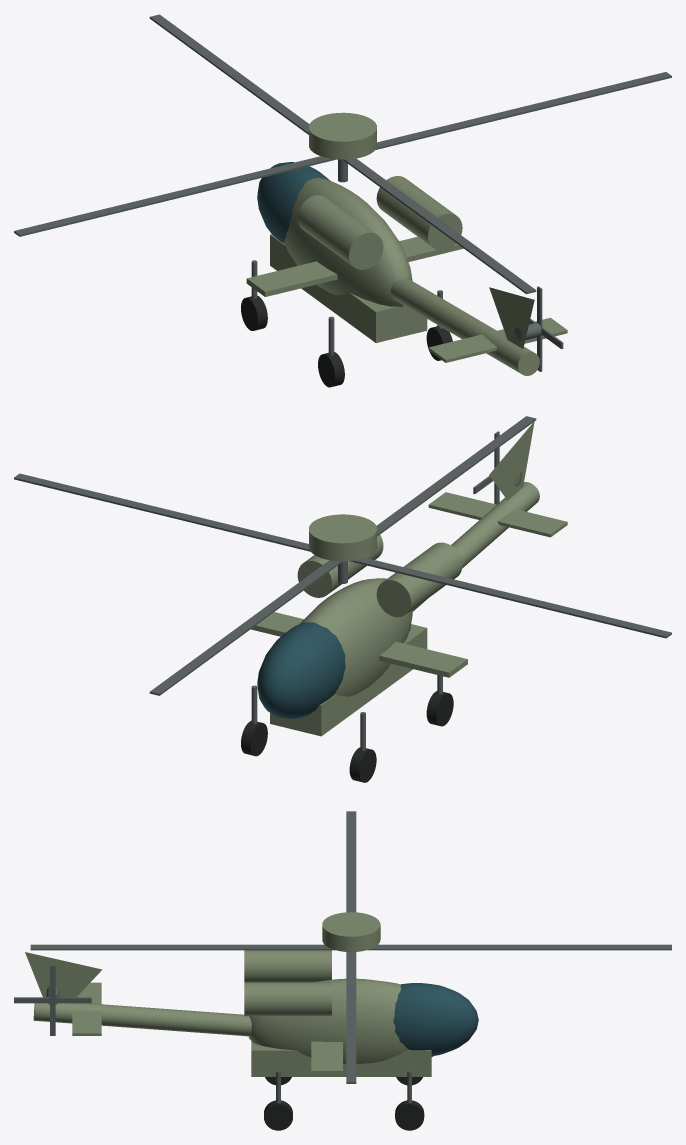
The picture shows the model from 3 angles, top to bottom: view 1: azimuth 30°, elevation 25°; view 2: azimuth 150°, elevation 25°; view 3: azimuth 270°, elevation 25°; orthographic projection. The views are drawn at different scales.
Parts seen in each view (by area): view 1: Hull_MVP olive paint, MainRotor_MVP exposed metal, Tail_MVP olive paint, AH64E_MVP_MVP olive paint, Hull_MVP optical glass, RunningGear_MVP rubber, Tail_MVP exposed metal; view 2: Hull_MVP olive paint, MainRotor_MVP exposed metal, Hull_MVP optical glass, Tail_MVP olive paint, AH64E_MVP_MVP olive paint, RunningGear_MVP rubber, RunningGear_MVP exposed metal; view 3: Hull_MVP olive paint, Tail_MVP olive paint, MainRotor_MVP exposed metal, Hull_MVP optical glass, AH64E_MVP_MVP olive paint, RunningGear_MVP rubber, Tail_MVP exposed metal.
Part boxes in pixels (left/top/right/bottom): Hull_MVP olive paint: left=246, top=176, right=463, bottom=342; MainRotor_MVP exposed metal: left=14, top=14, right=671, bottom=294; Tail_MVP olive paint: left=390, top=278, right=567, bottom=375; AH64E_MVP_MVP olive paint: left=309, top=112, right=376, bottom=159; Hull_MVP optical glass: left=257, top=162, right=330, bottom=243; RunningGear_MVP rubber: left=241, top=295, right=452, bottom=387; Tail_MVP exposed metal: left=514, top=286, right=563, bottom=371; Hull_MVP olive paint: left=251, top=535, right=467, bottom=736; MainRotor_MVP exposed metal: left=14, top=416, right=671, bottom=695; Hull_MVP optical glass: left=257, top=622, right=345, bottom=718; Tail_MVP olive paint: left=412, top=421, right=567, bottom=611; AH64E_MVP_MVP olive paint: left=309, top=514, right=376, bottom=561; RunningGear_MVP rubber: left=241, top=691, right=453, bottom=782; RunningGear_MVP exposed metal: left=251, top=675, right=442, bottom=750; Hull_MVP olive paint: left=244, top=950, right=433, bottom=1076; Tail_MVP olive paint: left=25, top=952, right=251, bottom=1036; MainRotor_MVP exposed metal: left=30, top=811, right=671, bottom=1083; Hull_MVP optical glass: left=393, top=983, right=478, bottom=1055; AH64E_MVP_MVP olive paint: left=322, top=912, right=380, bottom=952; RunningGear_MVP rubber: left=264, top=1077, right=424, bottom=1130; Tail_MVP exposed metal: left=14, top=964, right=91, bottom=1035.
Bounding box in the file's own units: 13.2 × 4.13 × 13.54.
